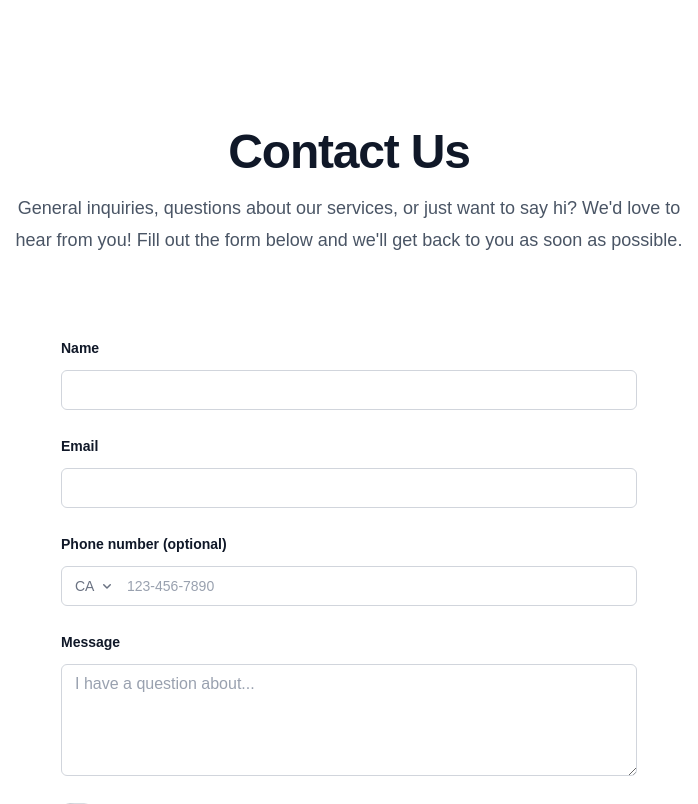
Test: Contact Form UI › shows loading state while submitting
The width and height of the screenshot is (698, 804).
Type "John Smith" into the field labelled "Name" at (349, 390), box [61, 370, 637, 410]
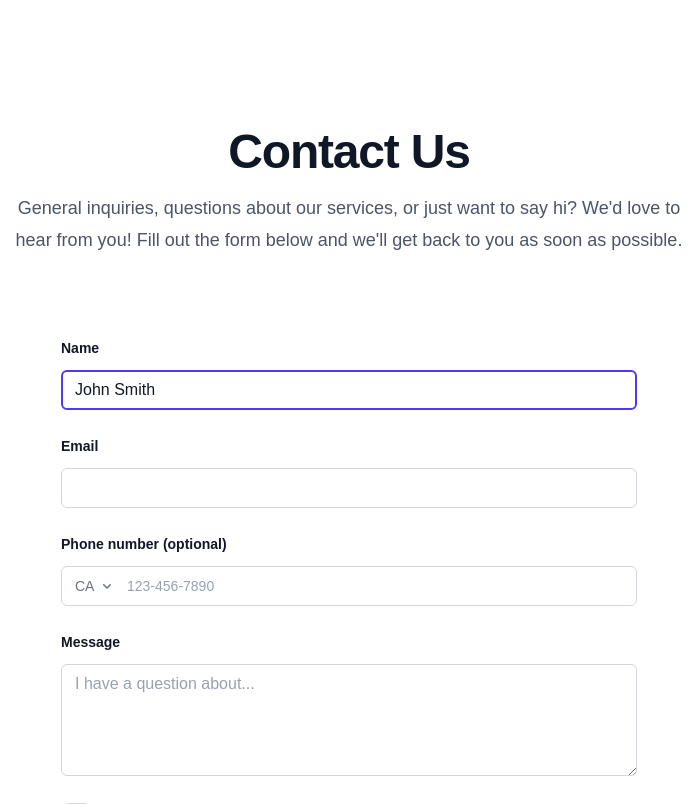
Type "john@example.com" into the field labelled "Email" at (349, 488), box [61, 468, 637, 508]
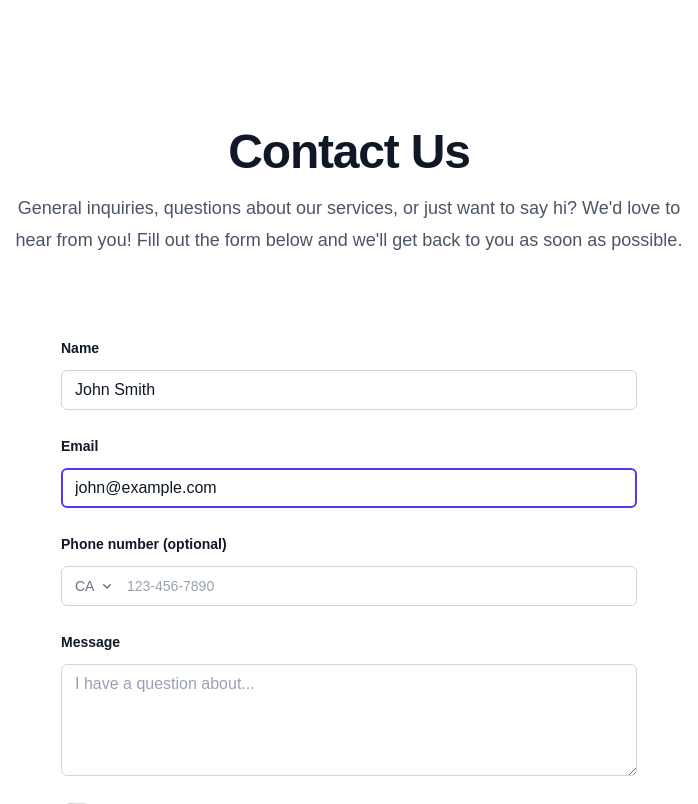
Type "Test message" into the text box labelled "Message" at (349, 720), box [61, 664, 637, 776]
(page scrolled)
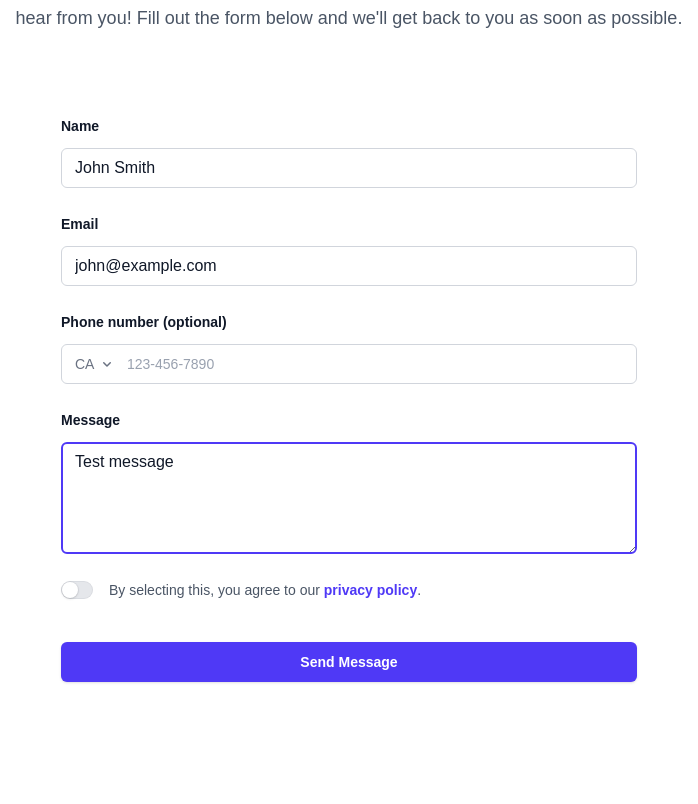
Click the button "Send Message" at (349, 662), box [61, 642, 637, 682]
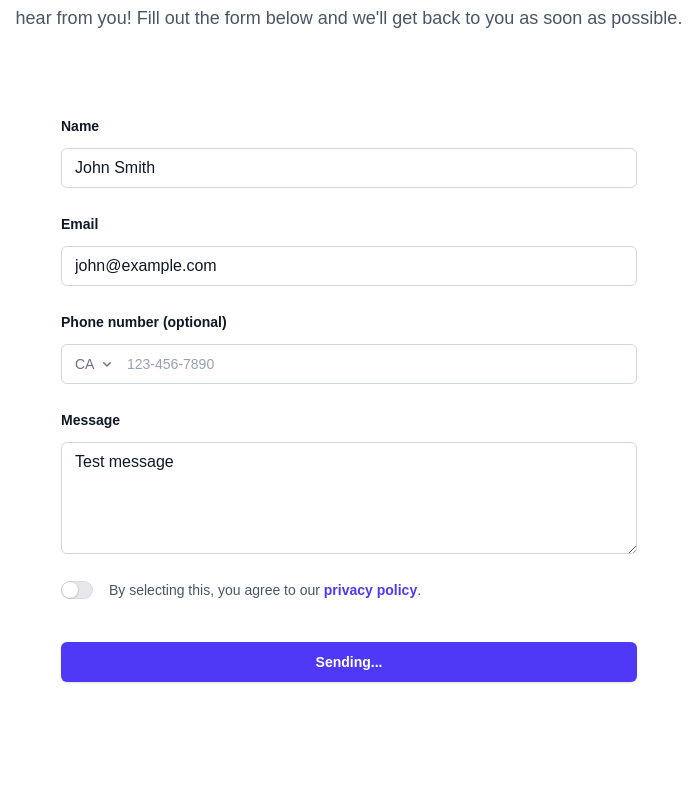
expect the button "Sending..." is disabled: met, box [61, 642, 637, 682]
